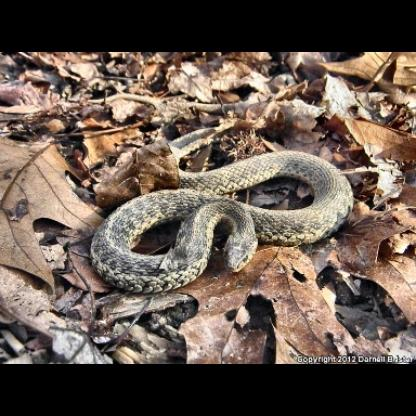Snake: (87, 105, 356, 294)
